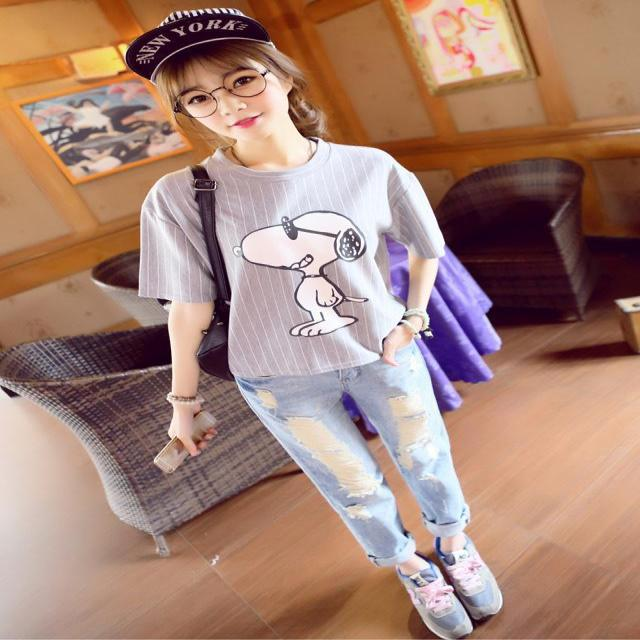short-sleeve-top: (132, 156, 494, 367)
trousers: (226, 378, 505, 564)
